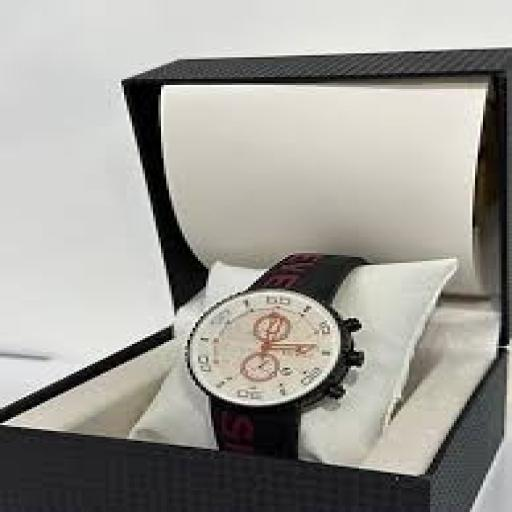KolSaati: (64, 46, 496, 498)
